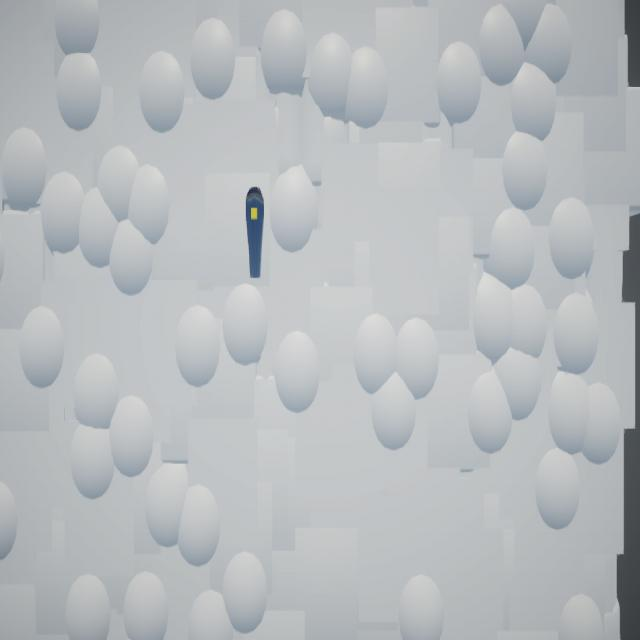handle_knife: (246, 188, 265, 279)
